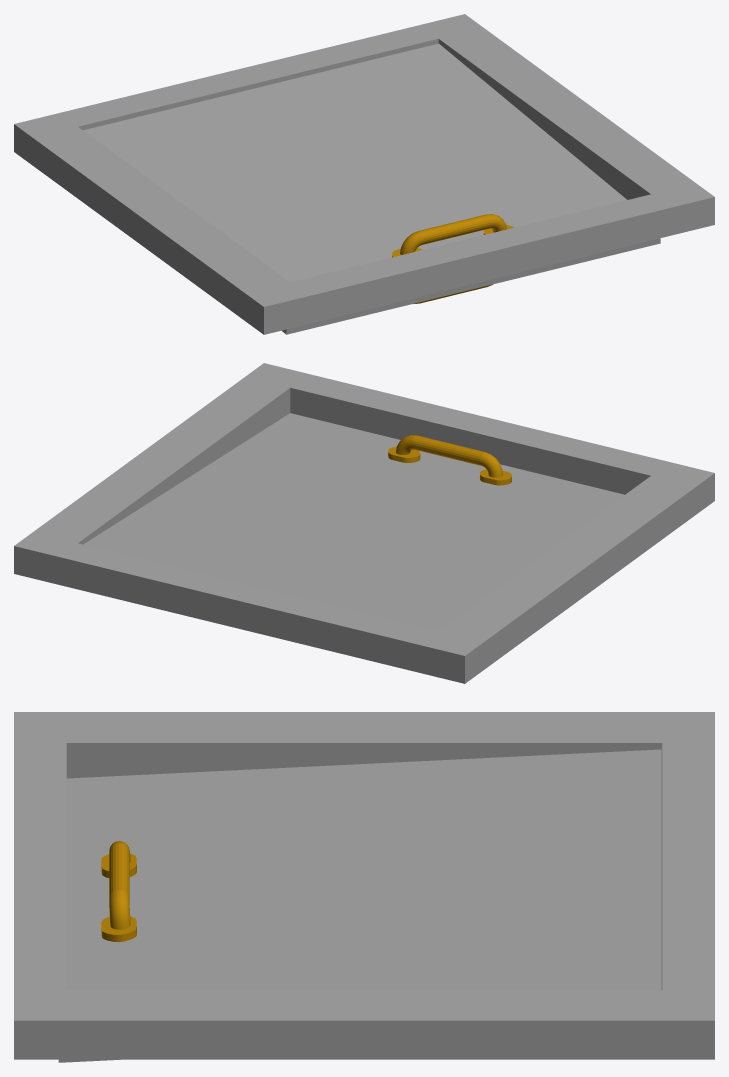
The model's file is TrapDoor_Closed.fbx.
3 views of the same model, one above another, from view 1: azimuth 30°, elevation 25°; view 2: azimuth 150°, elevation 25°; view 3: azimuth 270°, elevation 25° (orthographic). The views are drawn at different scales.
Parts seen in each view (by area): view 1: polySurface4; view 2: polySurface4; view 3: polySurface4.
Part boxes in pixels (x1,y1,x2,y2): polySurface4: (14,14,714,334); polySurface4: (14,363,714,683); polySurface4: (14,712,714,1062).
Size of the model in its own units: 35.89 by 5.6 by 34.46.
